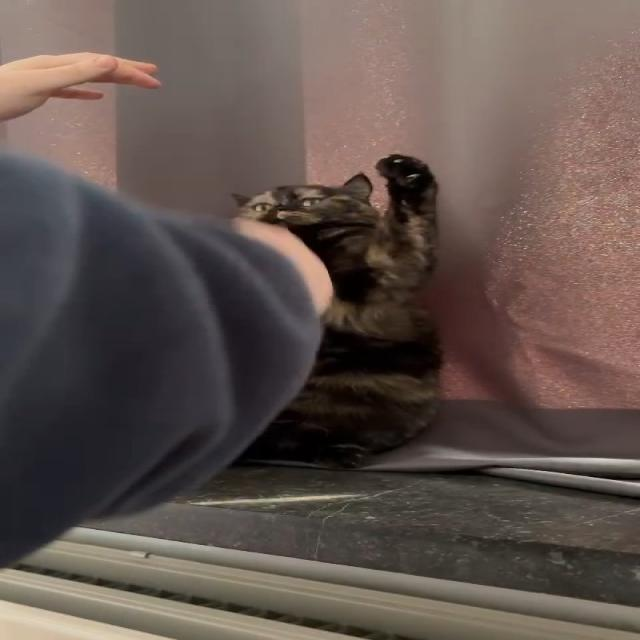authorized: (229, 154, 444, 469)
